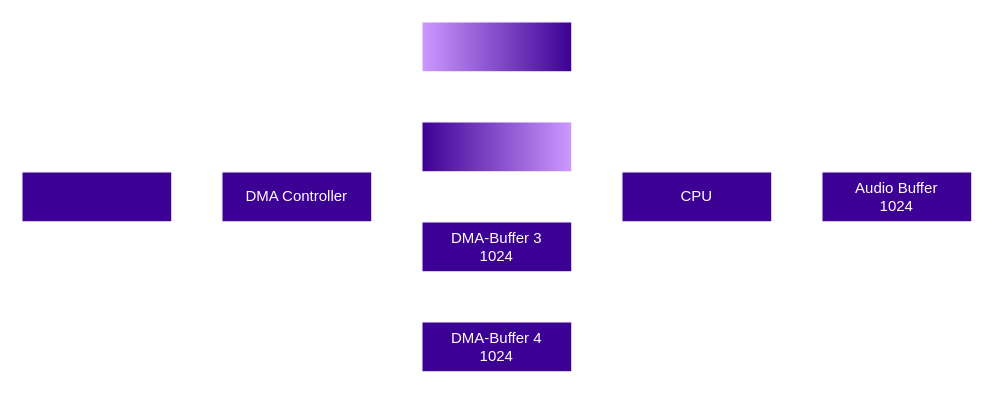
The diagram is 994 pixels wide and 394 high, and some of its shapes have lost their labels. Each missing label, with the centre of its shape:
"DMA-Buffer 1 1024" goes at pixel 496 46.
"DMA-Buffer 2 1024" goes at pixel 496 146.
"I2S von ADC" goes at pixel 96 196.
